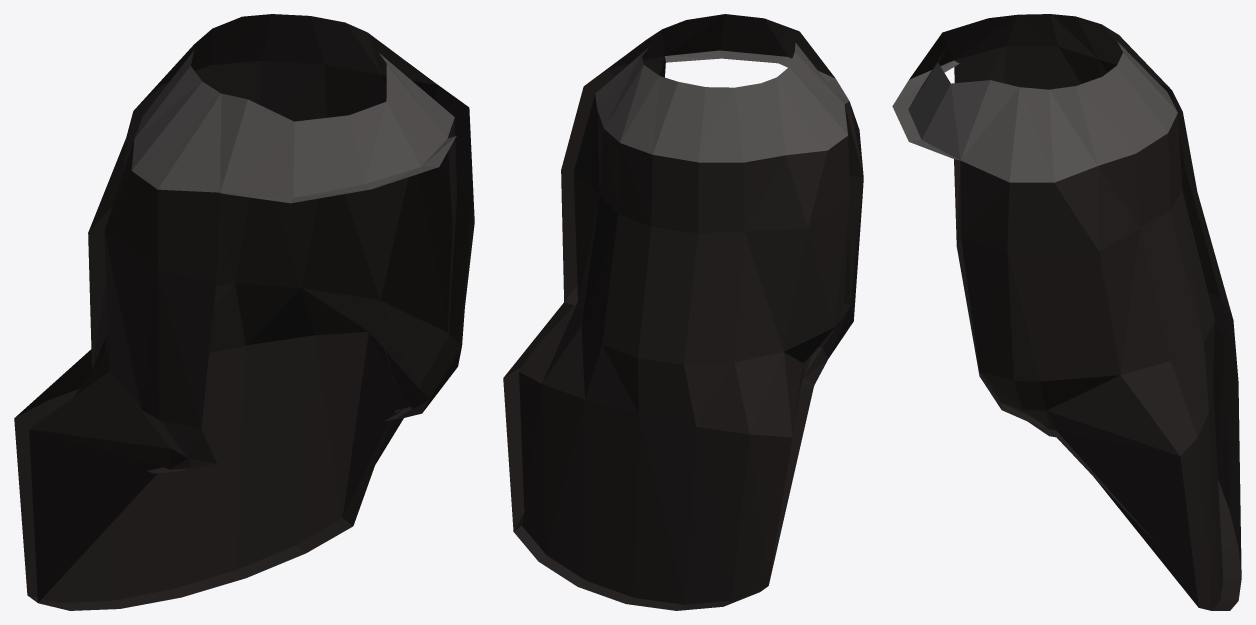
The model's file is hair_long_01_hatcut.glb.
The picture shows the model from 3 angles, left to right: view 1: azimuth 30°, elevation 25°; view 2: azimuth 150°, elevation 25°; view 3: azimuth 270°, elevation 25°; orthographic projection. The views are drawn at different scales.
Visible parts, largest first — view 1: hair_long_01_hatcut; view 2: hair_long_01_hatcut; view 3: hair_long_01_hatcut.
Boxes of the visible parts, box(x1,y1,x2,y2) form: hair_long_01_hatcut: box(14, 14, 474, 610); hair_long_01_hatcut: box(503, 14, 863, 610); hair_long_01_hatcut: box(892, 14, 1241, 610).
Size of the model in its own units: 0.3439 by 0.5764 by 0.3424.
Materials: 1 (1 with a texture image).
